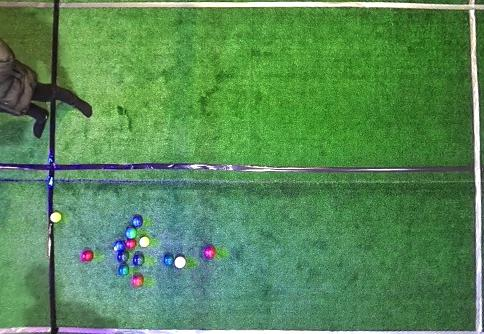blue: (132, 216, 143, 228), (115, 241, 125, 252)
green: (133, 254, 145, 266), (117, 251, 129, 263), (125, 227, 137, 239), (118, 264, 129, 276), (164, 255, 174, 266)
red: (81, 250, 94, 263), (204, 246, 216, 259), (132, 275, 144, 287), (174, 256, 186, 268), (125, 239, 137, 250)
vline: (1, 102, 57, 214), (1, 224, 58, 333), (466, 0, 483, 334), (1, 0, 59, 86)
white: (114, 247, 117, 251)
yellow: (49, 212, 61, 223), (139, 237, 150, 248)
